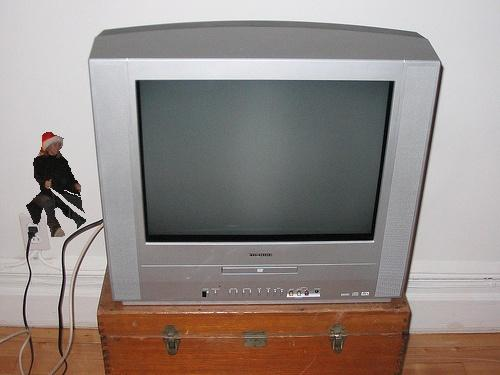tampered: (27, 133, 86, 237)
